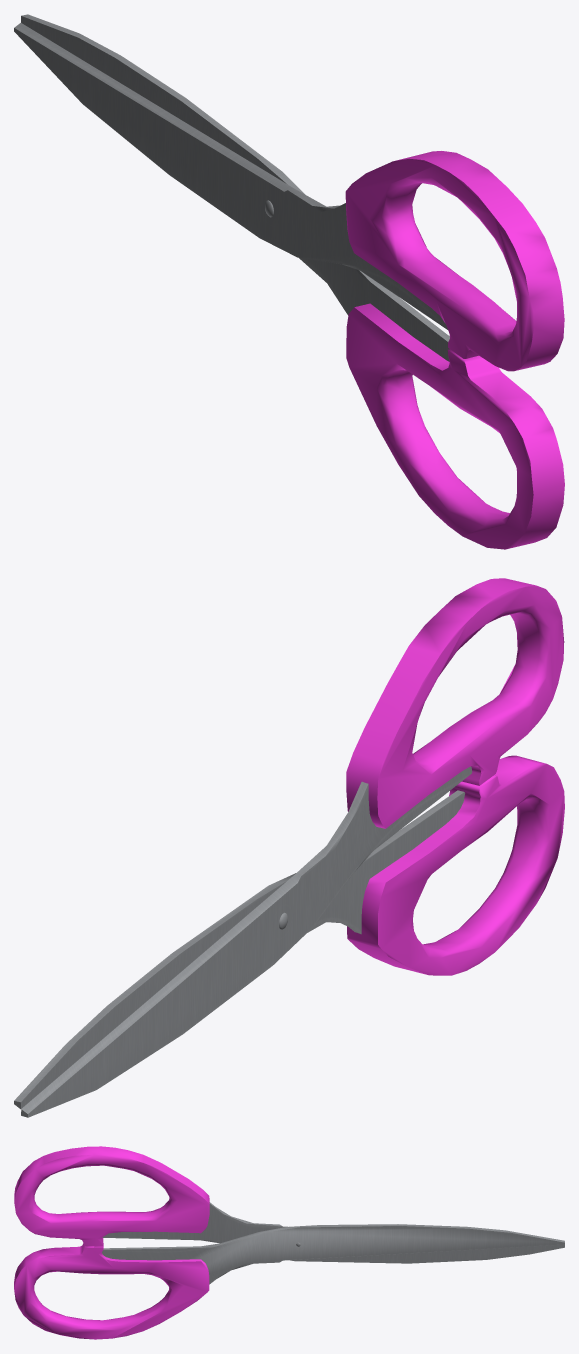
File: Scissor.fbx
The picture shows the model from 3 angles, top to bottom: view 1: azimuth 30°, elevation 25°; view 2: azimuth 150°, elevation 25°; view 3: azimuth 270°, elevation 25°; orthographic projection. The views are drawn at different scales.
Visible parts, largest first — view 1: Scissors R, Scissors L; view 2: Scissors R, Scissors L; view 3: Scissors L, Scissors R.
Boxes of the visible parts, bbox=[...] form: Scissors R: bbox=[14, 23, 564, 371]; Scissors L: bbox=[21, 14, 564, 549]; Scissors R: bbox=[21, 578, 564, 1117]; Scissors L: bbox=[14, 755, 564, 1109]; Scissors L: bbox=[14, 1224, 564, 1339]; Scissors R: bbox=[14, 1146, 564, 1263].
Bounding box in the file's own units: 7.21 × 72.45 × 196.
Materials: 1 (1 with a texture image).
